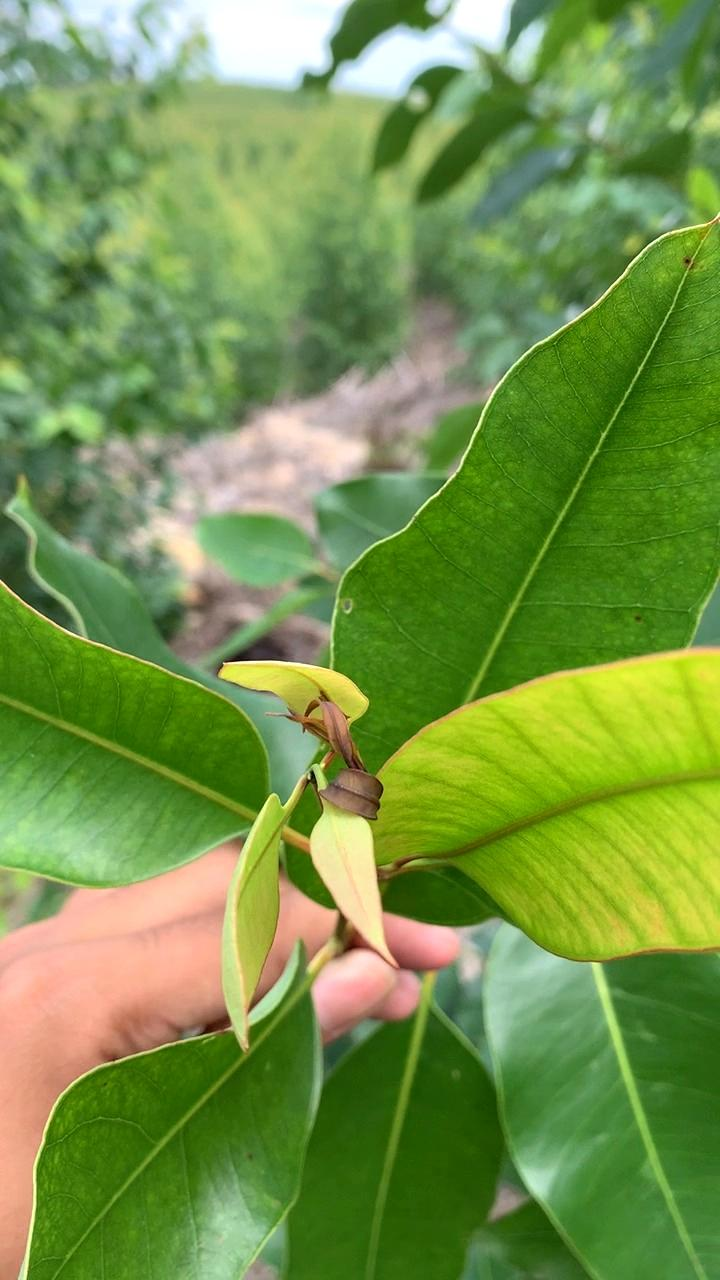Helopeltis-Withered Sprout: (293, 678, 391, 829)
